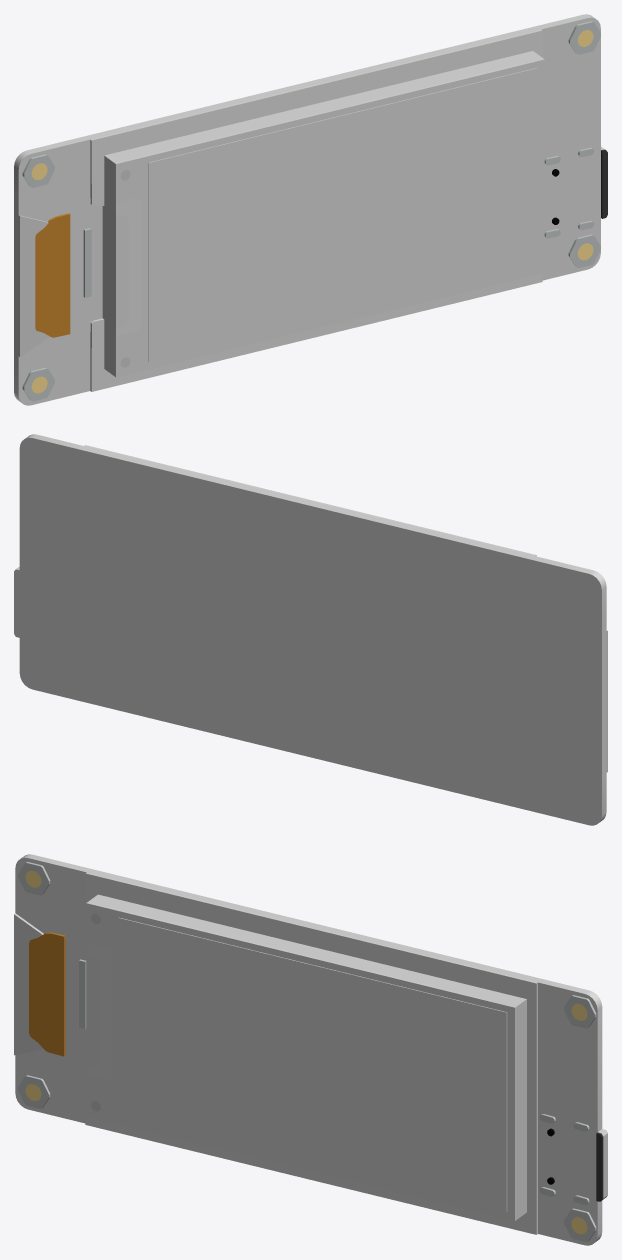
File: heltec-wireless-paper.glb
3 views of the same model, one above another, from view 1: azimuth 30°, elevation 25°; view 2: azimuth 150°, elevation 25°; view 3: azimuth 330°, elevation 25° (orthographic).
Visible parts, largest first — view 1: Screen, Body, Face_dbdddb, Face_e8eae8, Display, Face_c6842a, Face_c5c9c9, Face_d3d3d3, Face_ffe091; view 2: Body, Face_dbdddb; view 3: Screen, Body, Face_dbdddb, Face_e8eae8, Display, Face_c6842a, Face_c5c9c9, Face_d3d3d3, Face_ffe091, Face_353535.
Part boxes in pixels (x1,y1,x2,y2): Screen: (148,68,537,361); Body: (14,14,604,405); Face_dbdddb: (90,29,542,391); Face_e8eae8: (114,58,544,376); Display: (102,51,542,375); Face_c6842a: (35,213,70,337); Face_c5c9c9: (22,21,600,401); Face_d3d3d3: (18,215,49,356); Face_ffe091: (31,30,593,393); Body: (14,434,606,825); Face_dbdddb: (84,445,536,556); Screen: (118,917,507,1211); Body: (15,854,607,1245); Face_dbdddb: (85,872,537,1234); Face_e8eae8: (86,903,515,1220); Display: (88,894,526,1219); Face_c6842a: (29,932,65,1056); Face_c5c9c9: (18,862,596,1241); Face_d3d3d3: (14,913,43,1055); Face_ffe091: (25,870,587,1234); Face_353535: (596,1132,603,1201).
Bounding box in the file's own units: 0.072 × 0.0294 × 0.0039.
